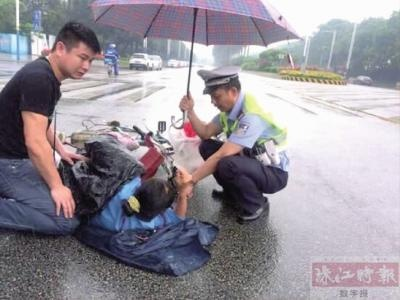falling: (41, 127, 192, 235)
